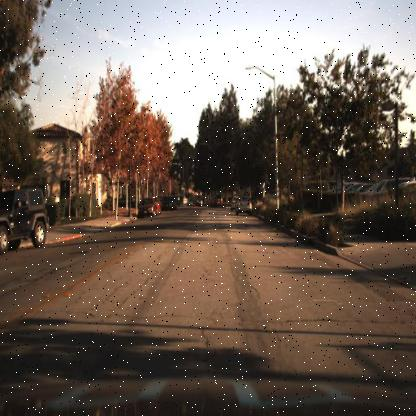car: (0, 188, 48, 252), (137, 195, 162, 217), (235, 193, 253, 217), (392, 178, 416, 196), (162, 189, 178, 212), (154, 192, 162, 217), (370, 182, 381, 200), (344, 180, 356, 196), (333, 182, 345, 196), (356, 181, 367, 195)
